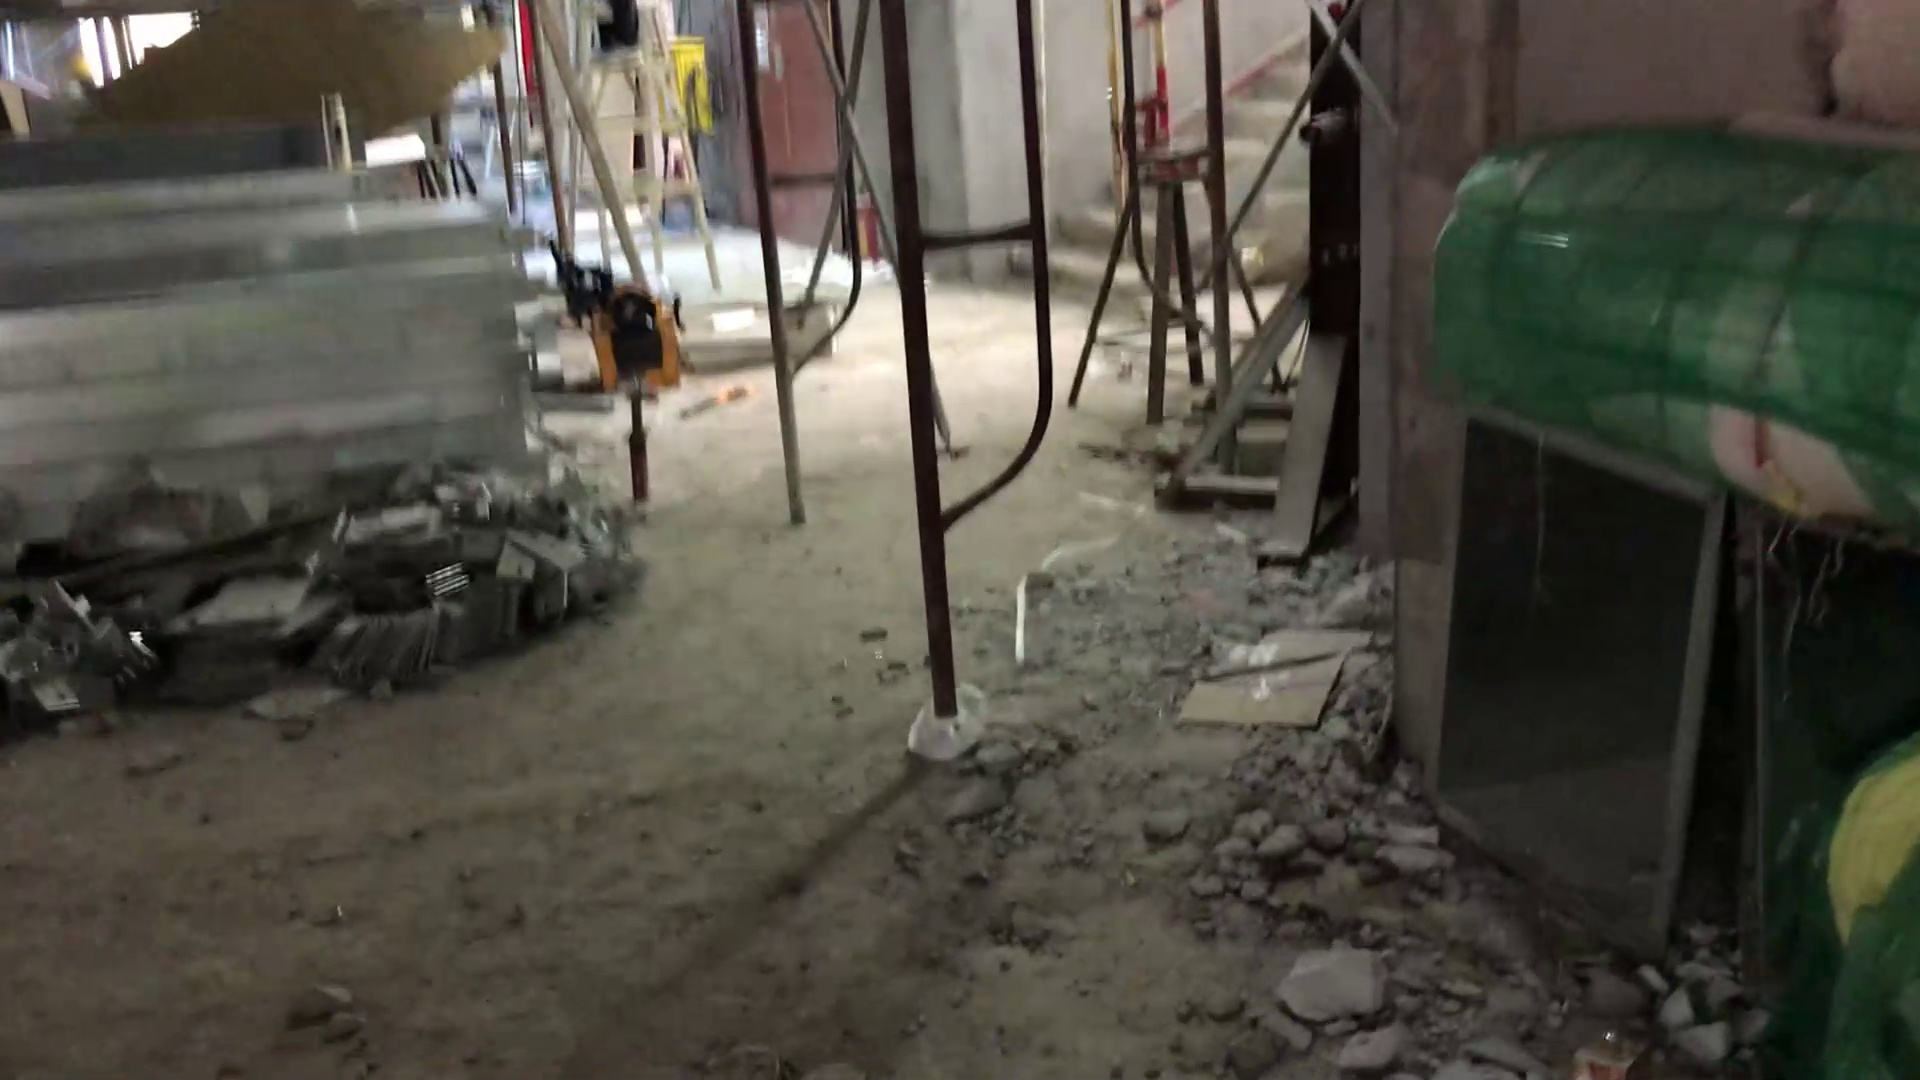ebox: (653, 25, 717, 167)
